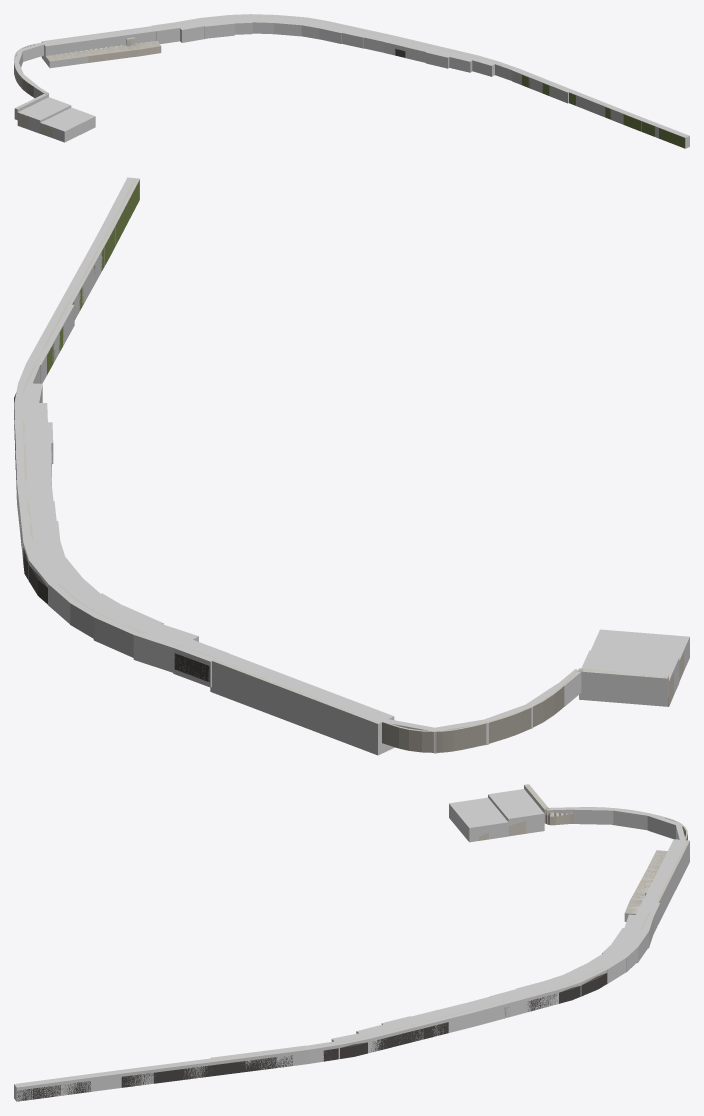
The model's file is itaipu.glb.
3 renders of one model, top to bottom at view 1: azimuth 30°, elevation 25°; view 2: azimuth 150°, elevation 25°; view 3: azimuth 270°, elevation 25°, orthographic. The views are drawn at different scales.
Parts seen in each view (by area): view 1: sitio, bulto-presa-principal, bulto-aliviadero-canales-bajo, bulto-aliviadero-canales-alto, bulto-dique-03, bulto-dique-06, bulto-dique-02, bulto-casa-de-maquinas, bulto-dique-13, bulto-dique-01, bulto-dique-08, bulto-dique-09 (+15 smaller); view 2: sitio, bulto-presa-principal, bulto-aliviadero-canales-alto, bulto-aliviadero-canales-bajo, bulto-aliviadero-compuertas, bulto-dique-03, bulto-dique-02, bulto-dique-05, bulto-dique-04, bulto-dique-06, bulto-dique-01; view 3: sitio, bulto-aliviadero-canales-bajo, bulto-presa-principal, bulto-aliviadero-canales-alto, bulto-dique-08, bulto-dique-10, bulto-dique-11, bulto-dique-09, bulto-ala-04, bulto-dique-05, bulto-dique-03, bulto-dique-17 (+9 smaller).
Boxes of the visible parts, x1,y1,x2,y2 form: sitio: (14,16,686,148); bulto-presa-principal: (41,26,156,62); bulto-aliviadero-canales-bajo: (41,107,95,142); bulto-aliviadero-canales-alto: (18,97,71,133); bulto-dique-03: (200,15,234,38); bulto-dique-06: (272,15,307,36); bulto-dique-02: (176,18,207,42); bulto-casa-de-maquinas: (45,41,161,68); bulto-dique-13: (426,45,456,68); bulto-dique-01: (152,22,180,44); bulto-dique-08: (319,21,349,43); bulto-dique-09: (341,26,371,48); sitio: (14,178,684,752); bulto-presa-principal: (210,653,394,755); bulto-aliviadero-canales-alto: (579,650,679,706); bulto-aliviadero-canales-bajo: (590,629,689,669); bulto-aliviadero-compuertas: (580,669,668,699); bulto-dique-03: (93,605,163,657); bulto-dique-02: (133,622,198,673); bulto-dique-05: (48,578,103,624); bulto-dique-04: (70,593,123,639); bulto-dique-06: (28,555,83,605); bulto-dique-01: (173,639,227,687); sitio: (16,784,689,1101); bulto-aliviadero-canales-bajo: (449,797,508,842); bulto-presa-principal: (642,839,689,920); bulto-aliviadero-canales-alto: (488,789,544,833); bulto-dique-08: (516,981,558,1011); bulto-dique-10: (463,996,504,1025); bulto-dique-11: (437,1003,477,1032); bulto-dique-09: (490,988,530,1018); bulto-ala-04: (573,807,614,824); bulto-dique-05: (587,951,626,983); bulto-dique-03: (612,928,648,962); bulto-dique-17: (274,1045,309,1067).
Bounding box in the file's own units: 4116 × 135 × 3874.
